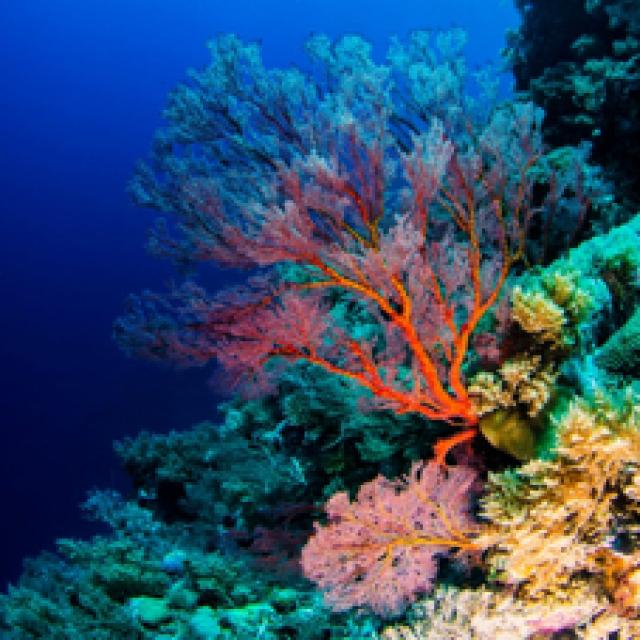Healthy: (119, 32, 540, 424), (466, 404, 638, 638), (303, 461, 480, 613)
